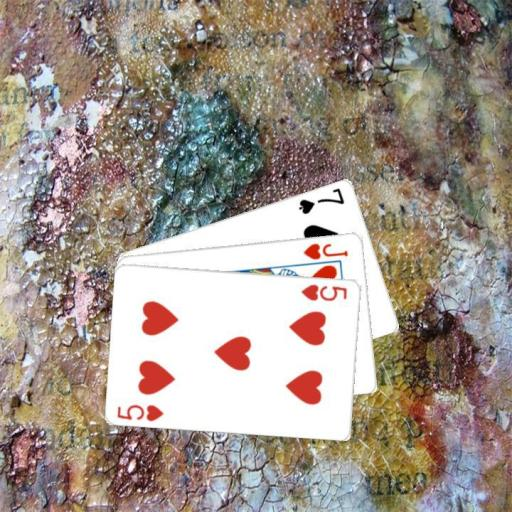5H: (115, 401, 166, 422), (299, 281, 349, 302)
7S: (296, 184, 346, 216)
JH: (301, 240, 350, 261)
